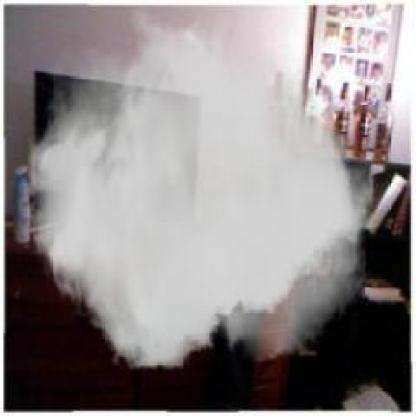Smoke: (21, 2, 374, 369)
